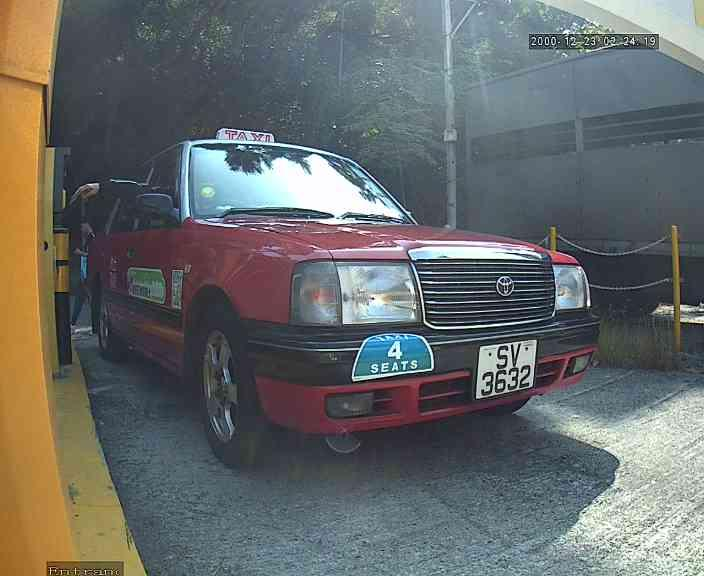Car: (92, 21, 626, 448)
License Plate: (469, 337, 541, 397)
